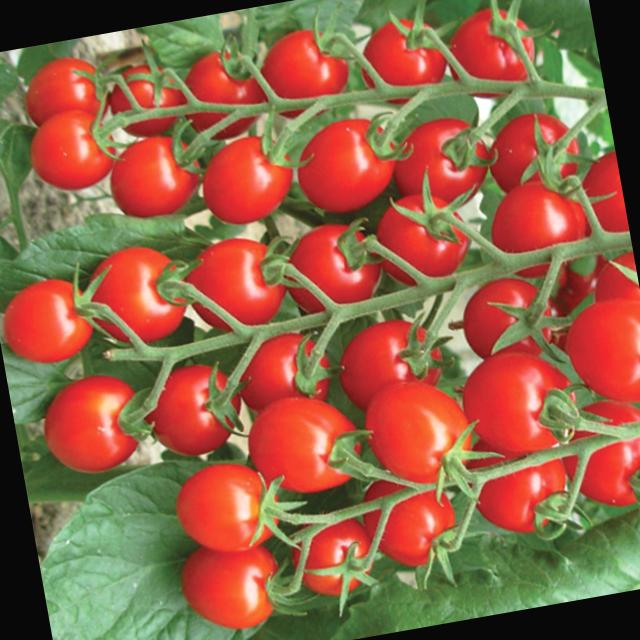tomato: (352, 364, 480, 502), (452, 335, 578, 464), (37, 364, 160, 486), (187, 114, 304, 234), (286, 100, 406, 216), (250, 390, 368, 504), (176, 229, 292, 344), (174, 452, 292, 564), (144, 354, 247, 472), (0, 271, 105, 386), (288, 212, 393, 322), (86, 239, 187, 348), (100, 122, 198, 225), (376, 192, 474, 288), (22, 102, 124, 192)
